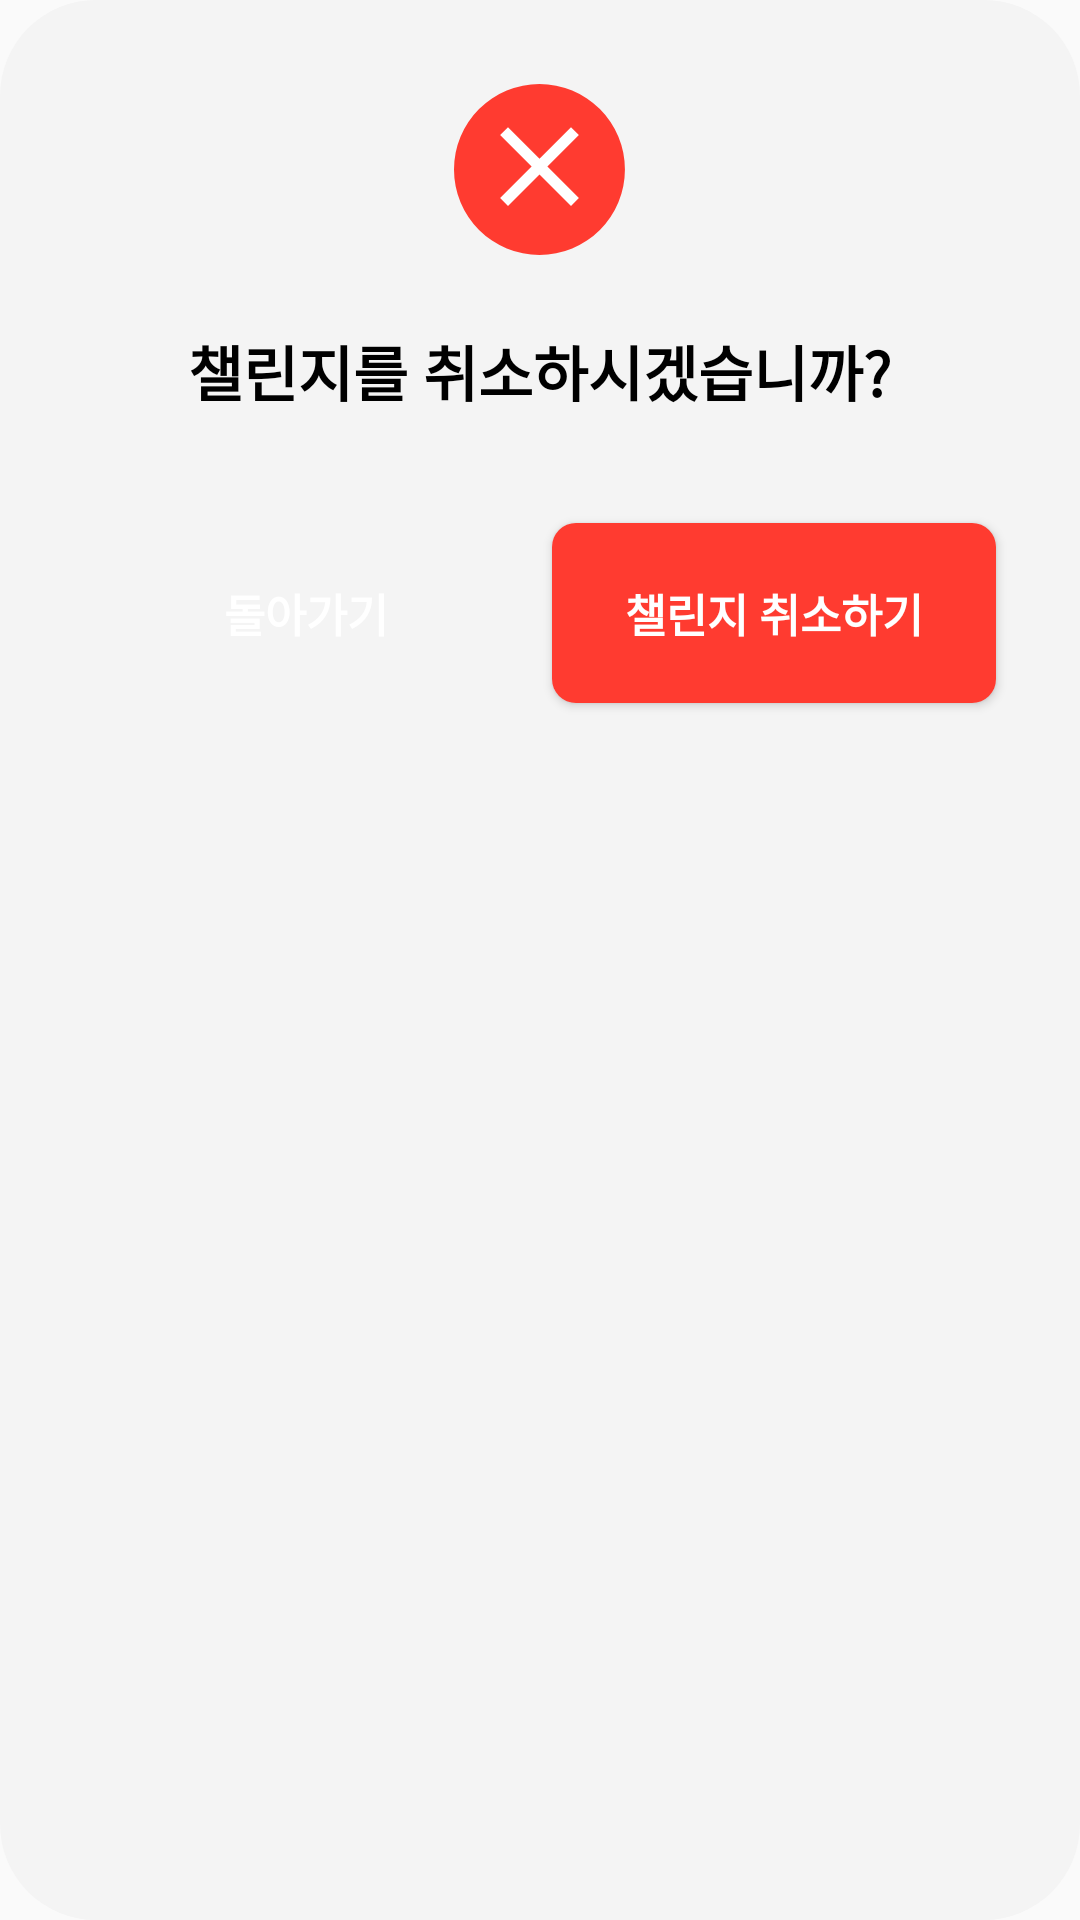

Locate icon controls on the screen. Image size 1080×1920, boxes as detection(x1, y1, x2, y2).
취소 이미지: detection(454, 84, 625, 255)
